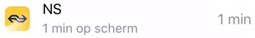name: (38, 2, 67, 18)
time: (40, 21, 74, 35)
